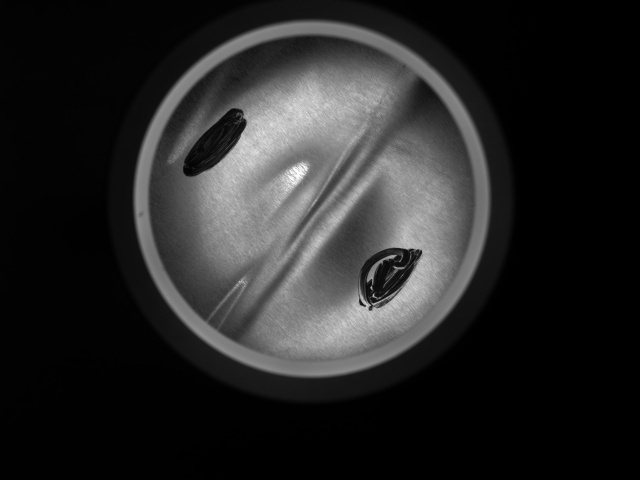zang_wu: (181, 107, 255, 179), (354, 246, 423, 310)
zhe_zhou: (190, 65, 431, 330)
